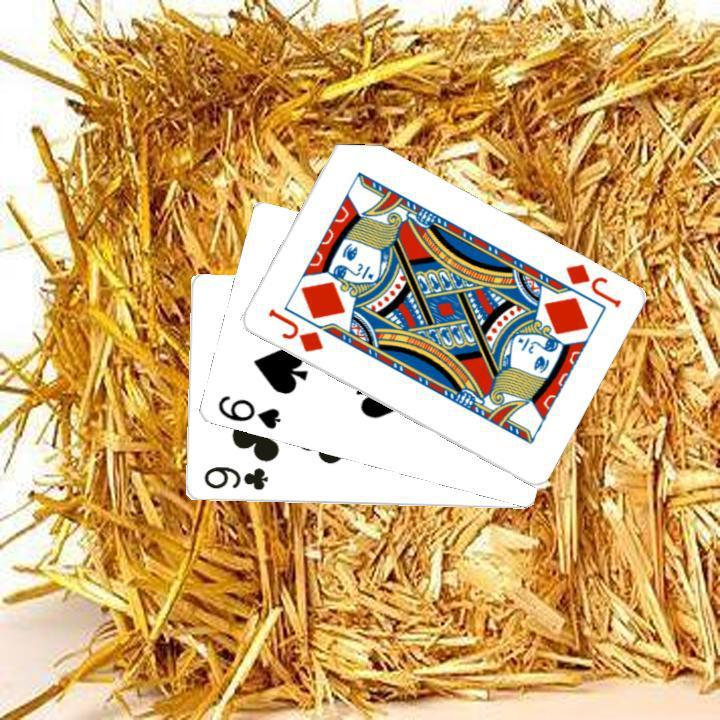6: (213, 391, 283, 432)
9: (199, 463, 270, 493)
J: (560, 259, 623, 310), (263, 304, 325, 355)
